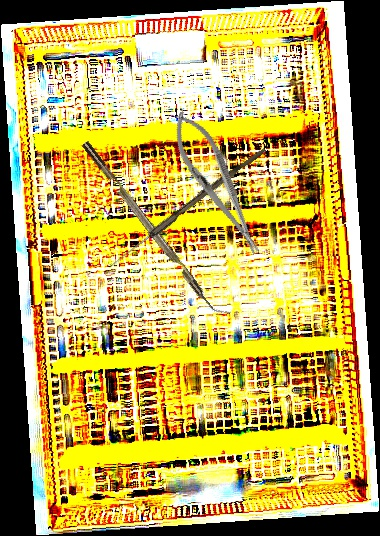Chopper: (81, 133, 232, 325)
Needle Holder: (161, 104, 273, 263)
Surgical Spoon: (107, 144, 267, 271)
